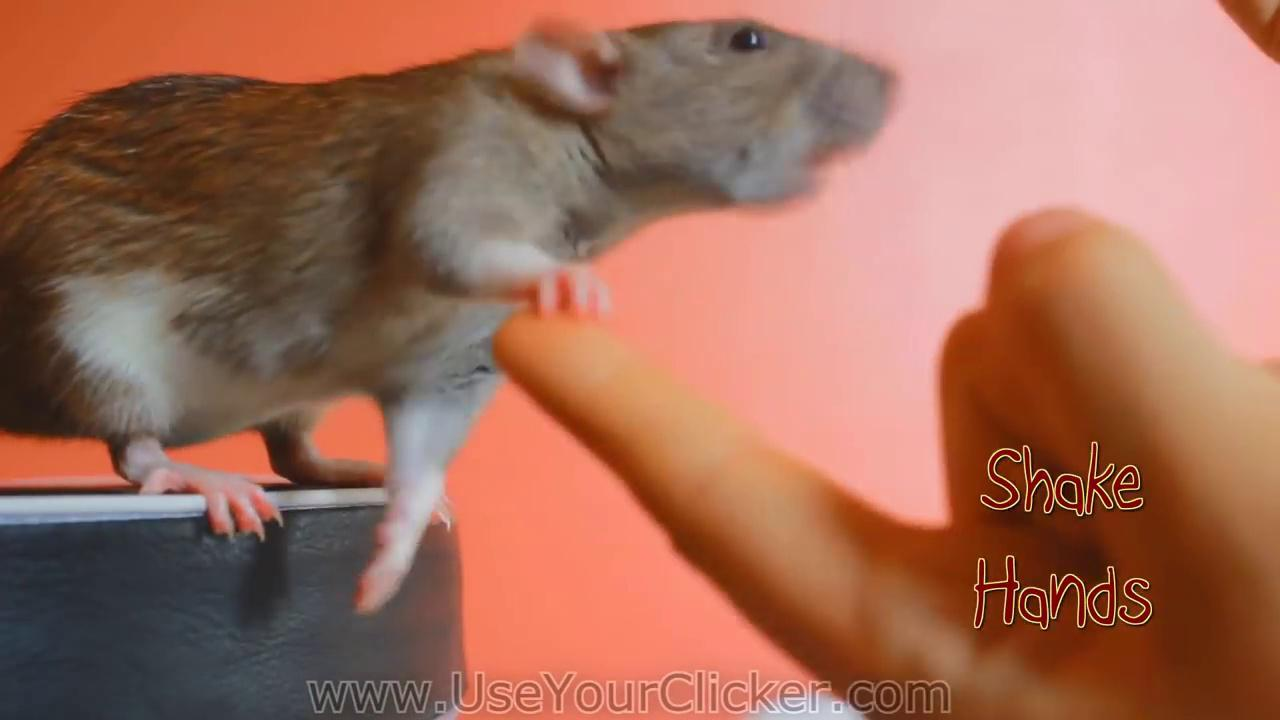rat: (9, 15, 897, 617)
